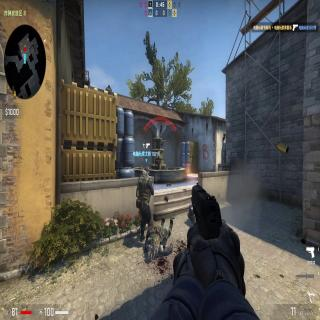CT-Body: (134, 164, 154, 240)
CT-Head: (144, 164, 150, 178)
